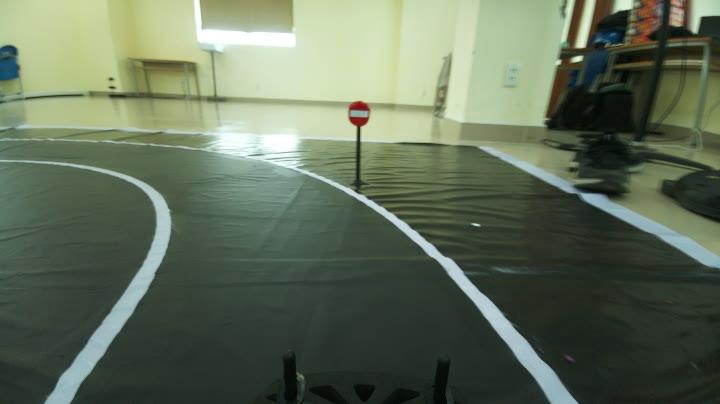no_entry: (342, 93, 374, 130)
